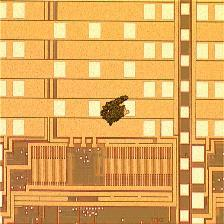PARTICLE: (99, 95, 135, 128)
